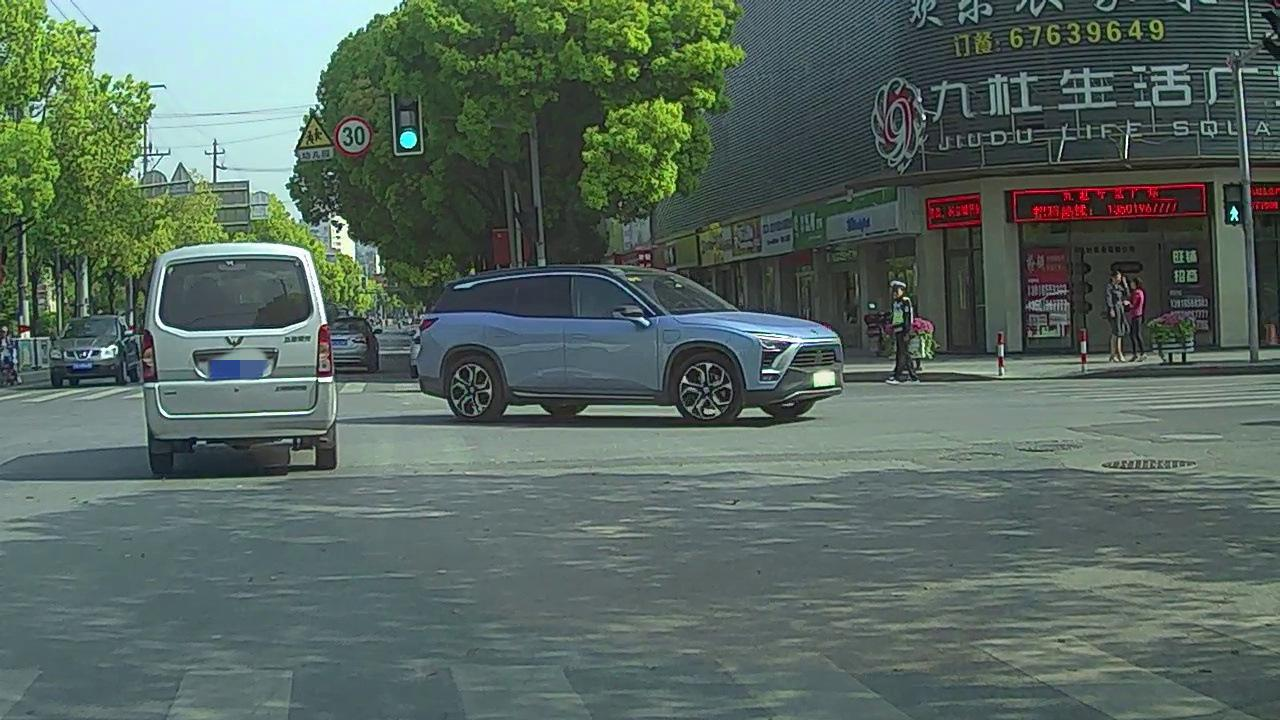traffic_light: (393, 85, 422, 154)
